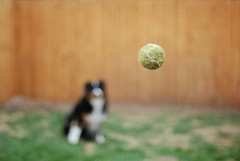tennis ball: (136, 41, 169, 73)
